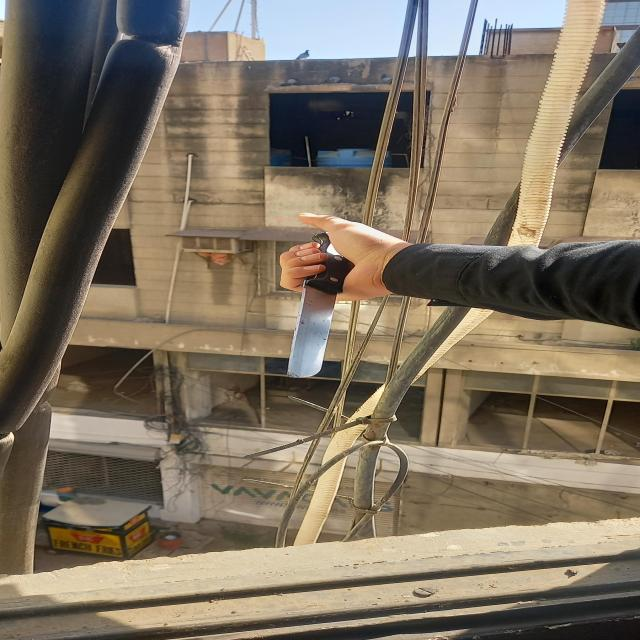Knife: (286, 230, 352, 378)
Person: (282, 212, 640, 330)
